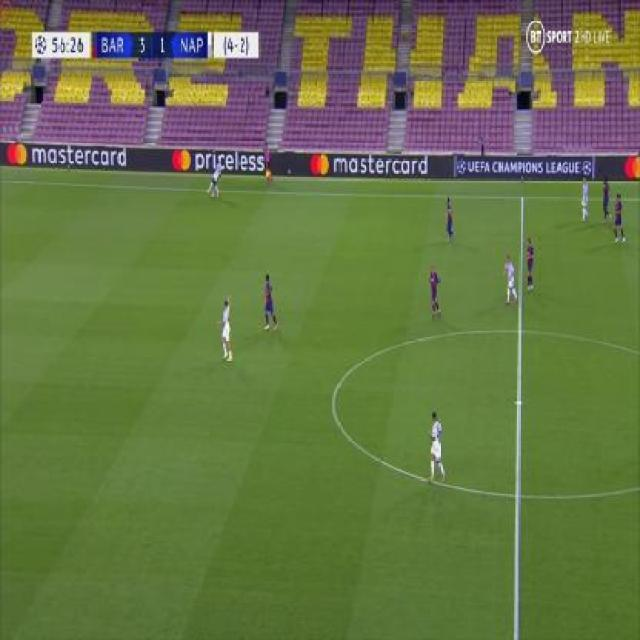player: (425, 408, 447, 485), (216, 294, 236, 362), (261, 271, 280, 333), (428, 259, 444, 319), (501, 252, 518, 306), (611, 191, 627, 244), (524, 234, 538, 291), (206, 159, 223, 198), (578, 169, 591, 220), (444, 195, 457, 243), (600, 173, 611, 222), (263, 139, 272, 185)
